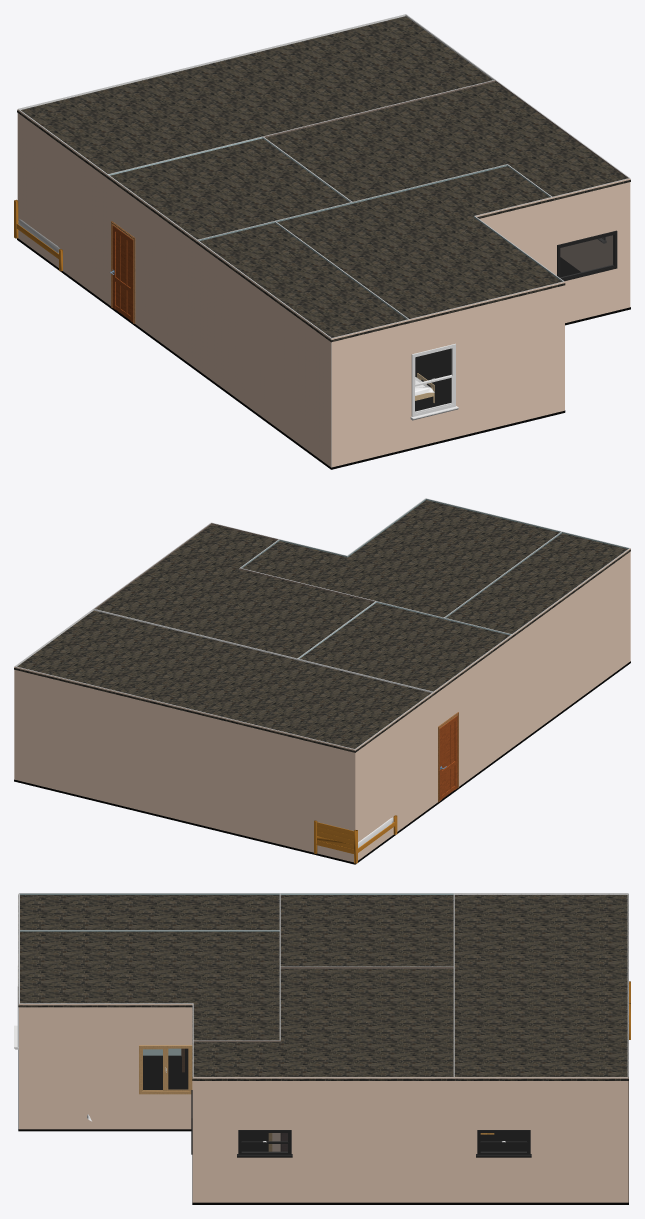
The model's file is ProcTHOR-Train-31.glb.
3 renders of one model, top to bottom at view 1: azimuth 30°, elevation 25°; view 2: azimuth 150°, elevation 25°; view 3: azimuth 270°, elevation 25°, orthographic. The views are drawn at different scales.
Parts seen in each view (by area): view 1: Ceiling#room|6|c, Ceiling#room|4|c, Ceiling#room|8|c, WallInside#wall|exterior|9.92|7.93|9.92|13.88, WallInside#wall|exterior|3.97|13.88|7.93|13.88, Ceiling#room|9|c, WallInside#wall|exterior|9.92|0.00|9.92|3.97, Ceiling#room|5|c, WallInside#wall|exterior|7.93|13.88|9.92|13.88, WallInside#wall|exterior|9.92|3.97|9.92|7.93, WallInside#wall|exterior|0.00|9.92|1.98|9.92, WallInside#wall|exterior|1.98|9.92|3.97|9.92 (+8 smaller); view 2: WallInside#wall|exterior|0.00|0.00|9.92|0.00, Ceiling#room|6|c, Ceiling#room|4|c, Ceiling#room|8|c, WallInside#wall|exterior|9.92|7.93|9.92|13.88, Ceiling#room|9|c, WallInside#wall|exterior|9.92|0.00|9.92|3.97, Ceiling#room|5|c, WallInside#wall|exterior|9.92|3.97|9.92|7.93, Bed_2, Doorway_10, Floor#room|6|f; view 3: Ceiling#room|6|c, WallInside#wall|exterior|0.00|3.97|0.00|9.92, Ceiling#room|4|c, Ceiling#room|8|c, WallInside#wall|exterior|0.00|0.00|0.00|3.97, WallInside#wall|exterior|3.97|9.92|3.97|13.88, Ceiling#room|9|c, Ceiling#room|5|c, Floor#room|4|f, Window_Hung_48x24 (×2), Floor#room|6|f, Window_Slider_48x48 (+3 smaller).
Boxes of the visible parts, box(x1,y1,x2,y2) form: Ceiling#room|6|c: box(17, 16, 493, 177); Ceiling#room|4|c: box(277, 166, 565, 323); Ceiling#room|8|c: box(266, 82, 630, 203); WallInside#wall|exterior|9.92|7.93|9.92|13.88: box(197, 240, 331, 466); WallInside#wall|exterior|3.97|13.88|7.93|13.88: box(409, 281, 564, 448); Ceiling#room|9|c: box(106, 138, 351, 242); WallInside#wall|exterior|9.92|0.00|9.92|3.97: box(17, 109, 107, 302); Ceiling#room|5|c: box(196, 223, 409, 342); WallInside#wall|exterior|7.93|13.88|9.92|13.88: box(331, 319, 409, 467); WallInside#wall|exterior|9.92|3.97|9.92|7.93: box(107, 174, 196, 368); WallInside#wall|exterior|0.00|9.92|1.98|9.92: box(552, 178, 630, 322); WallInside#wall|exterior|1.98|9.92|3.97|9.92: box(474, 197, 552, 272); WallInside#wall|exterior|0.00|0.00|9.92|0.00: box(14, 666, 355, 862); Ceiling#room|6|c: box(14, 610, 433, 752); Ceiling#room|4|c: box(242, 500, 561, 619); Ceiling#room|8|c: box(96, 524, 373, 658); WallInside#wall|exterior|9.92|7.93|9.92|13.88: box(512, 548, 630, 747); Ceiling#room|9|c: box(300, 603, 512, 694); WallInside#wall|exterior|9.92|0.00|9.92|3.97: box(355, 692, 434, 860); Ceiling#room|5|c: box(445, 533, 630, 637); WallInside#wall|exterior|9.92|3.97|9.92|7.93: box(434, 634, 512, 804); Bed_2: box(314, 815, 397, 863); Doorway_10: box(438, 712, 458, 802); Floor#room|6|f: box(14, 779, 433, 864); Ceiling#room|6|c: box(453, 894, 628, 1080); WallInside#wall|exterior|0.00|3.97|0.00|9.92: box(192, 1077, 454, 1202); Ceiling#room|4|c: box(18, 931, 280, 1042); Ceiling#room|8|c: box(192, 968, 454, 1080); WallInside#wall|exterior|0.00|0.00|0.00|3.97: box(453, 1077, 628, 1202); WallInside#wall|exterior|3.97|9.92|3.97|13.88: box(19, 1003, 192, 1129); Ceiling#room|9|c: box(279, 895, 454, 968); Ceiling#room|5|c: box(18, 894, 280, 931); Floor#room|4|f: box(18, 1055, 280, 1165); Window_Hung_48x24 (×2): box(237, 1130, 531, 1157); Floor#room|6|f: box(453, 1081, 628, 1204); Window_Slider_48x48: box(139, 1045, 192, 1094).
Size of what is drawn, in the model's own units: 10.16 by 3.2 by 14.07.
Materials: 338 (130 with a texture image).
